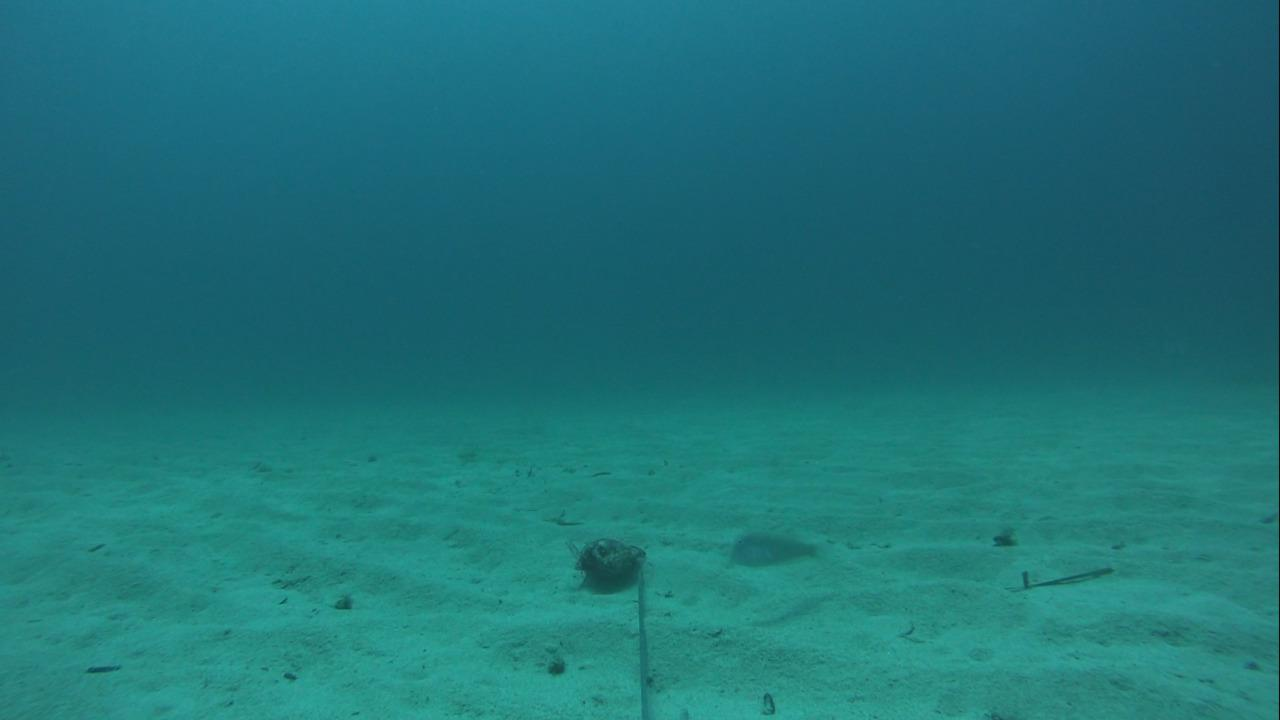raor: (719, 528, 829, 571)
